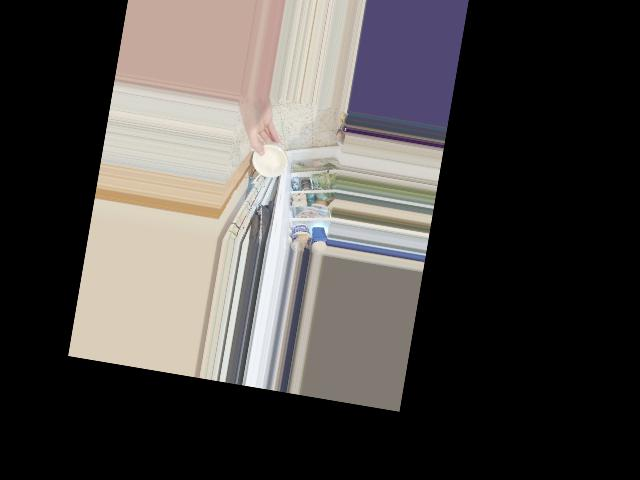cotage: (251, 142, 291, 184)
